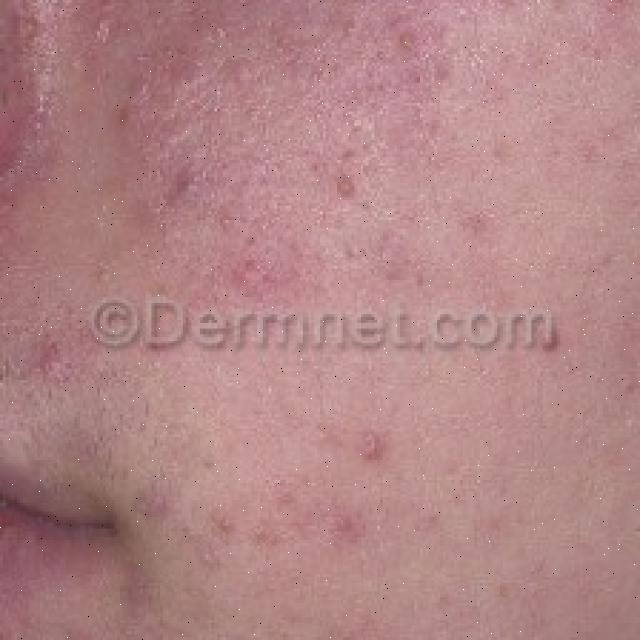Acne: (31, 0, 625, 605)
